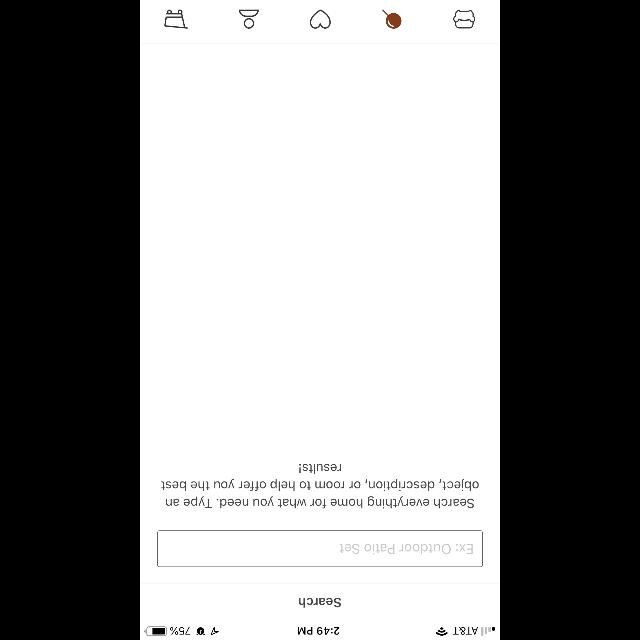icon: (165, 10, 188, 28), (382, 10, 402, 28), (310, 10, 330, 28), (239, 10, 259, 28)
image: (453, 10, 475, 28)
input: (158, 531, 482, 567)
text: (162, 464, 478, 508), (340, 544, 472, 554), (299, 597, 341, 607)
uppertaskbar: (140, 626, 500, 640)
